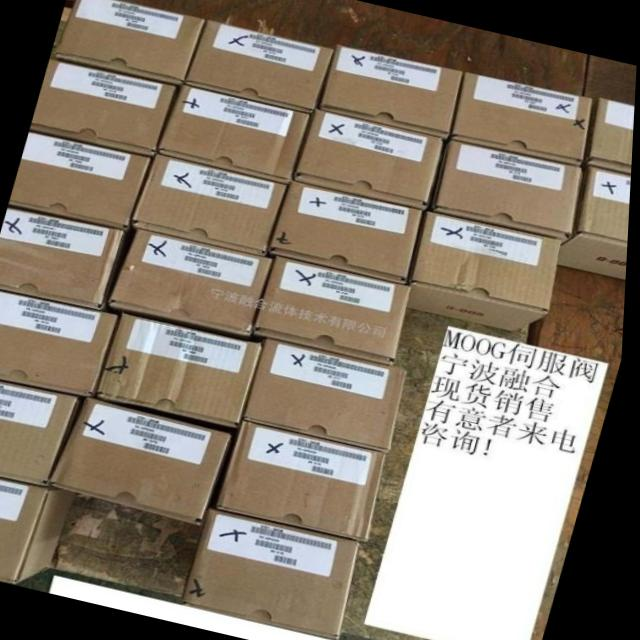box: (55, 395, 236, 527), (186, 508, 365, 640), (218, 418, 391, 543), (100, 313, 265, 427), (409, 211, 564, 332), (247, 336, 410, 451), (110, 227, 275, 336), (258, 256, 415, 364), (270, 179, 426, 285), (133, 154, 290, 256), (430, 139, 584, 239), (157, 85, 314, 183), (31, 57, 180, 157), (295, 108, 444, 207), (318, 42, 462, 138), (10, 133, 152, 230), (186, 18, 333, 111), (451, 71, 595, 165), (50, 0, 204, 86), (0, 292, 122, 398), (0, 208, 125, 309), (0, 381, 90, 487), (0, 477, 82, 582), (561, 166, 633, 280), (585, 97, 636, 174)
